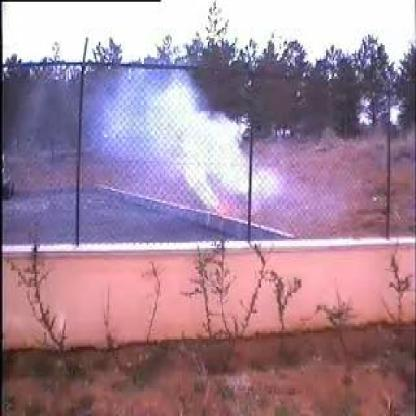-: (79, 65, 284, 226)
